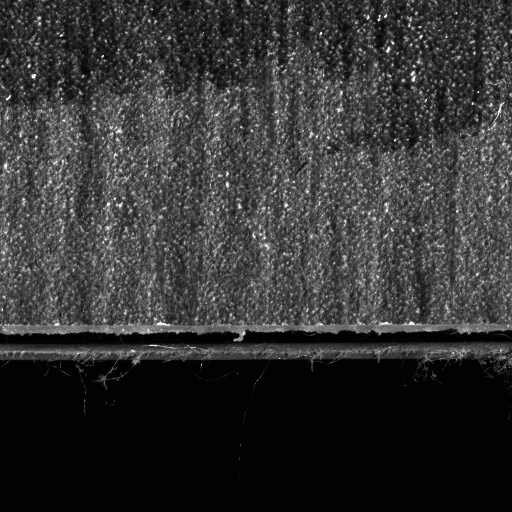kaijiao: (0, 313, 511, 364)
